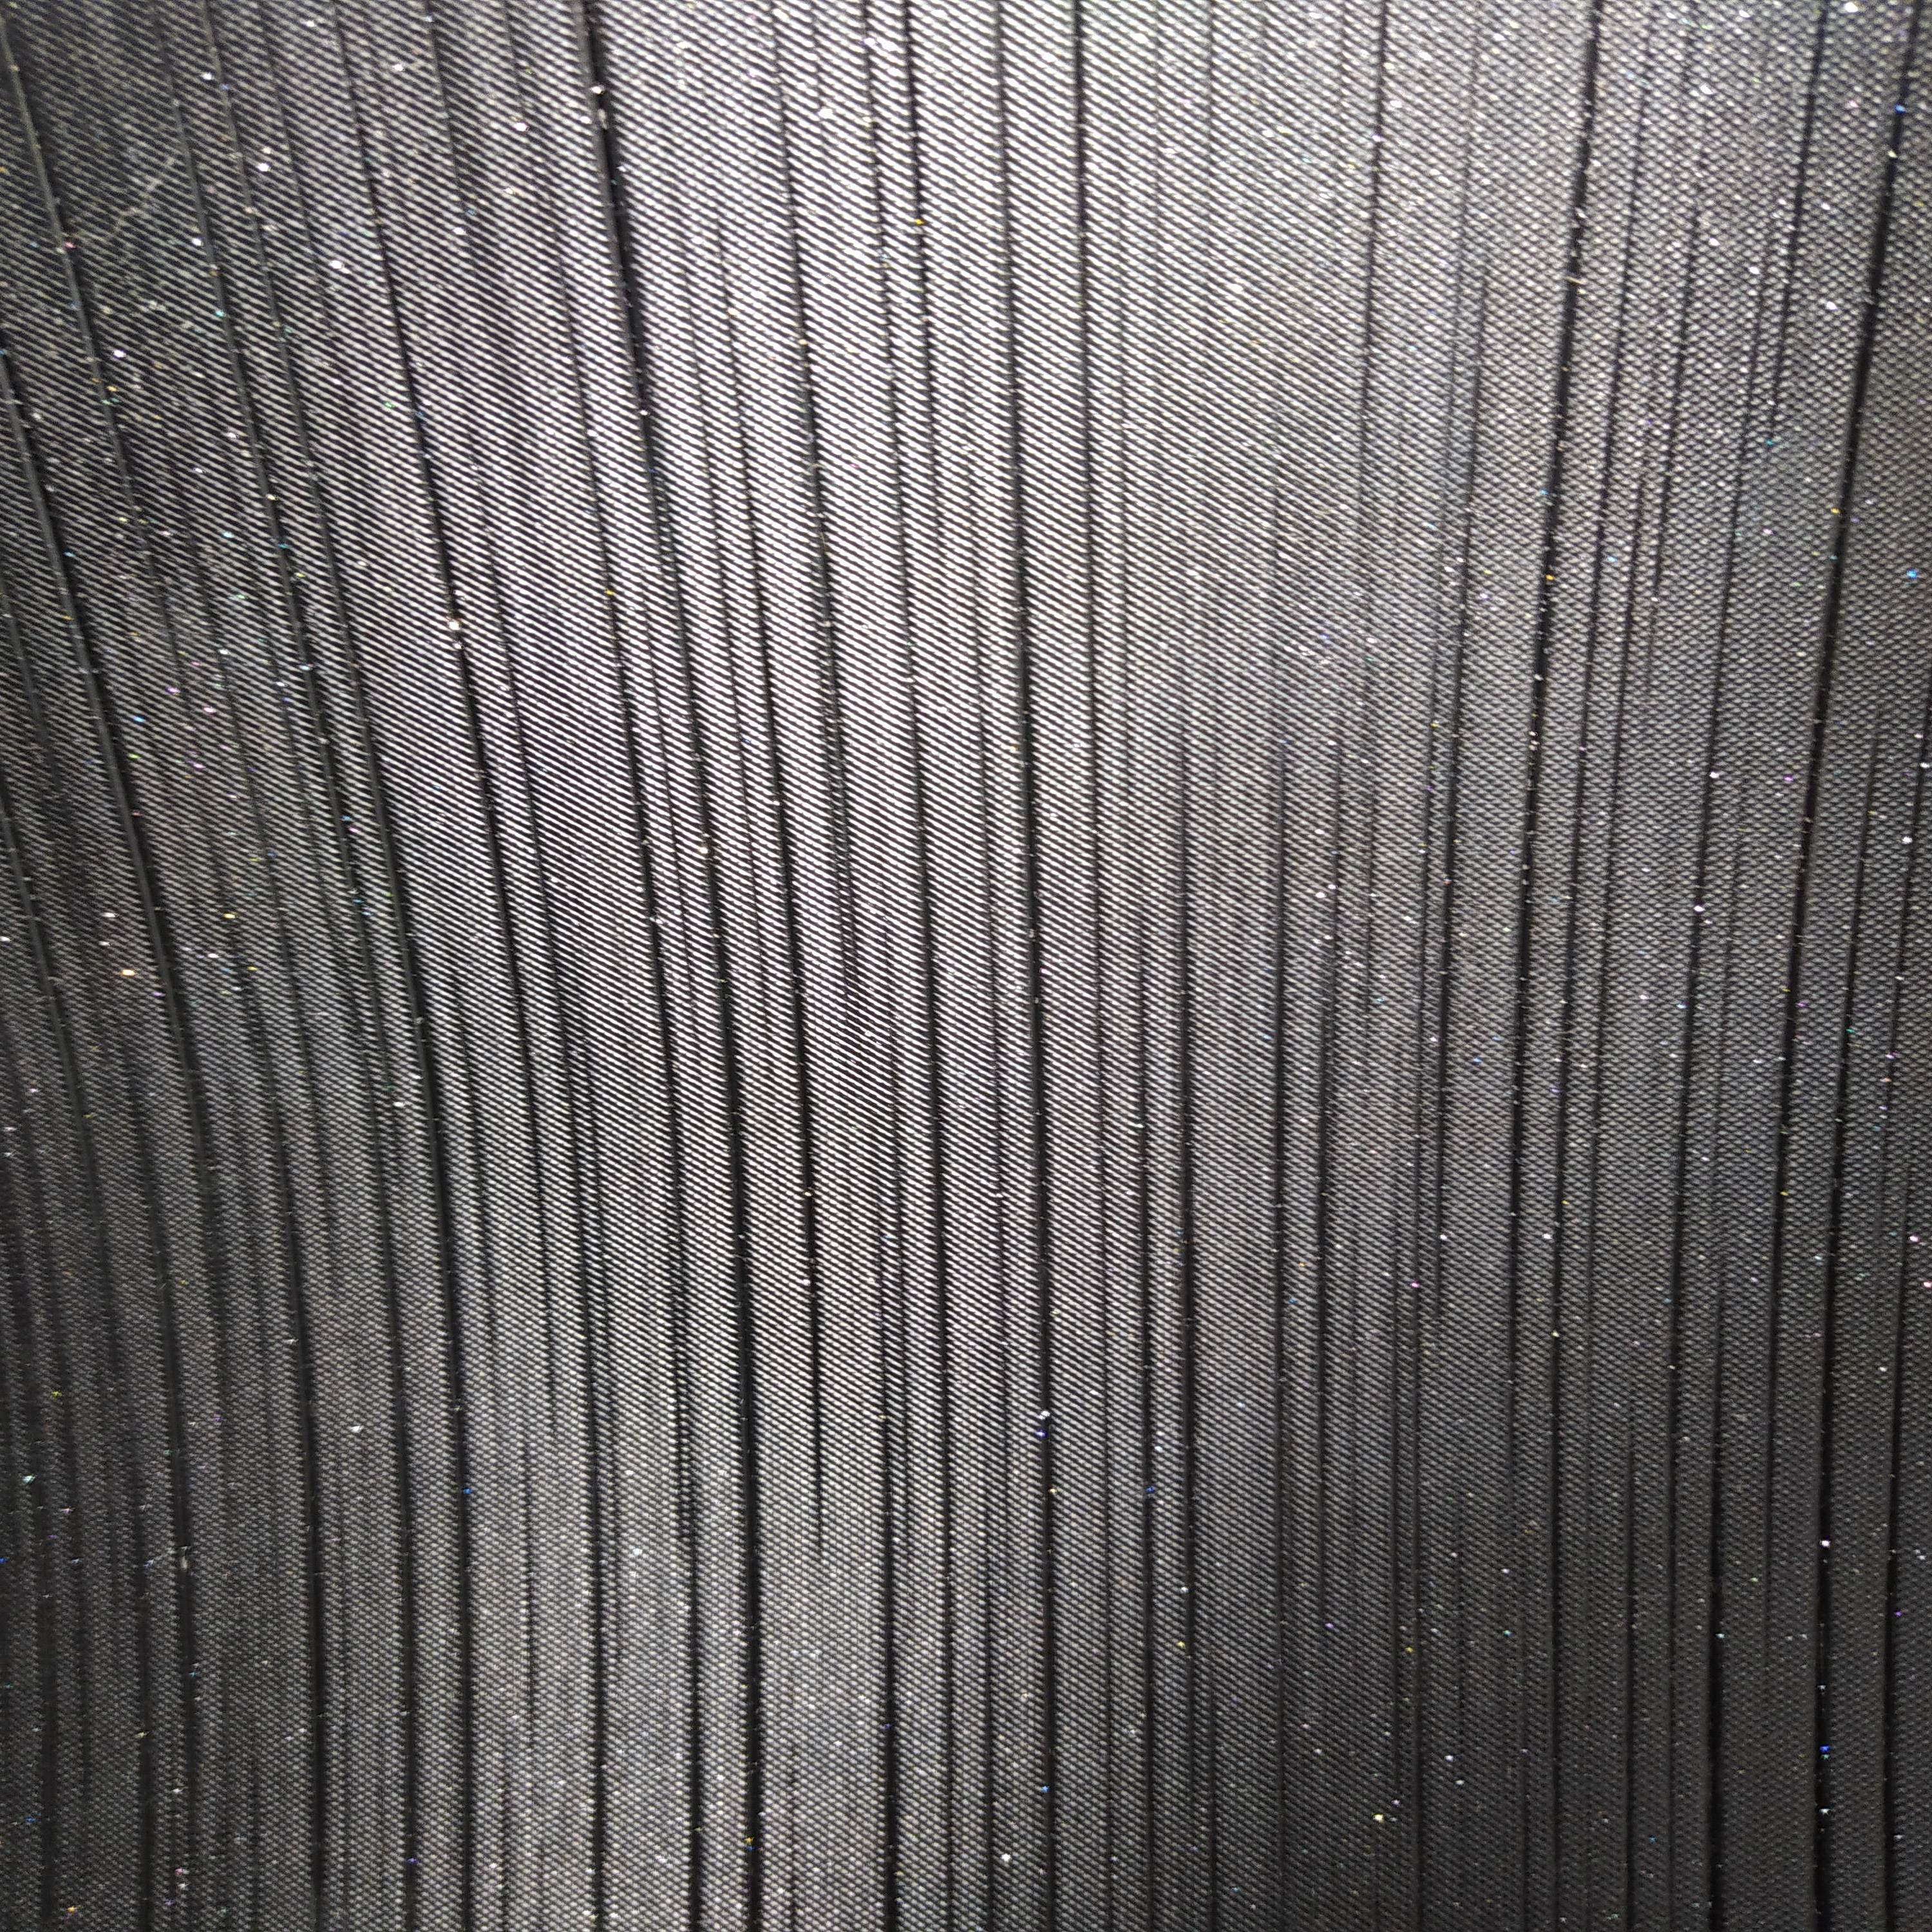friso grande: (1030, 1102, 1058, 1923), (1079, 812, 1120, 1376), (667, 1546, 713, 1928), (391, 1463, 428, 1925), (1801, 1486, 1840, 1927), (734, 1361, 763, 1928), (1343, 239, 1387, 593), (449, 1465, 483, 1930), (1829, 225, 1895, 453), (1097, 1368, 1123, 1930), (579, 1552, 617, 1928), (1882, 1430, 1911, 1921), (1265, 715, 1297, 1129), (299, 1493, 329, 1930), (1129, 1217, 1161, 1621), (1658, 1196, 1695, 1539), (1178, 1419, 1210, 1819), (1065, 65, 1099, 428), (874, 1550, 906, 1930), (1125, 915, 1164, 1221), (1168, 794, 1207, 1088), (1315, 1198, 1339, 1649), (1759, 1322, 1789, 1688), (1813, 1016, 1863, 1230), (1545, 203, 1589, 441), (885, 531, 927, 773), (1267, 1458, 1299, 1775), (1667, 957, 1707, 1200), (939, 1375, 957, 1928), (1024, 833, 1058, 1115), (1617, 1569, 1644, 1925), (1808, 1231, 1845, 1483), (1177, 1079, 1203, 1428), (764, 798, 814, 980), (1755, 278, 1803, 465), (1660, 196, 1698, 426), (789, 237, 828, 465), (1265, 1136, 1292, 1463), (801, 1141, 821, 1576), (1461, 235, 1499, 455), (1076, 568, 1109, 810), (1698, 609, 1744, 780), (616, 310, 674, 444), (1683, 777, 1725, 959), (994, 196, 1024, 453), (1560, 32, 1605, 203), (1500, 878, 1541, 1063), (1139, 1621, 1164, 1925), (713, 929, 747, 1152), (1005, 448, 1042, 649), (1594, 272, 1637, 446), (1513, 727, 1560, 879), (1759, 1115, 1794, 1320), (927, 1005, 947, 1375), (1265, 1766, 1309, 1927), (1787, 732, 1826, 915), (152, 1299, 196, 1454), (327, 559, 379, 690), (1778, 911, 1812, 1109), (380, 1292, 418, 1470), (81, 315, 136, 435), (281, 1184, 324, 1338), (1863, 90, 1909, 232), (1366, 11, 1394, 241), (754, 656, 798, 803), (391, 315, 437, 455), (126, 1743, 159, 1932), (1633, 533, 1667, 722), (30, 1729, 62, 1927), (1886, 1246, 1920, 1433), (982, 1571, 1000, 1925), (870, 1357, 902, 1552), (766, 69, 801, 244), (789, 968, 823, 1150), (832, 858, 874, 1001), (1541, 1557, 1571, 1759), (165, 1453, 205, 1599), (1504, 1274, 1529, 1509), (1700, 1720, 1729, 1925), (602, 198, 653, 311), (1010, 651, 1042, 833), (665, 1419, 706, 1560), (621, 833, 674, 941), (251, 251, 303, 363), (1576, 577, 1610, 747), (306, 451, 356, 566), (918, 763, 941, 1008), (731, 1154, 757, 1366), (593, 103, 646, 209), (1808, 577, 1844, 734), (531, 1217, 568, 1366), (1706, 1490, 1729, 1725), (571, 12, 630, 104), (53, 203, 103, 311), (1783, 138, 1821, 281), (173, 1592, 203, 1767), (131, 1571, 163, 1736), (292, 1332, 324, 1497), (499, 959, 547, 1069), (1822, 449, 1865, 571), (517, 1070, 552, 1215), (212, 50, 258, 161), (50, 1001, 94, 1116), (117, 1433, 152, 1576), (1318, 966, 1339, 1201), (570, 1299, 610, 1421), (1545, 1757, 1573, 1932), (1792, 30, 1835, 147), (366, 1157, 402, 1297), (1074, 426, 1109, 566), (21, 90, 64, 205), (895, 16, 931, 152), (642, 446, 685, 559), (1323, 763, 1346, 971), (699, 761, 727, 929), (30, 902, 73, 1014), (460, 432, 502, 543), (1507, 1060, 1529, 1281), (131, 1086, 170, 1207), (660, 1288, 697, 1414), (0, 345, 42, 455), (915, 251, 939, 439), (483, 862, 529, 962), (563, 304, 594, 449), (580, 446, 621, 557), (876, 426, 916, 538), (582, 1417, 614, 1559), (230, 324, 264, 456), (745, 525, 777, 665), (817, 757, 860, 862), (548, 952, 582, 1081), (1856, 692, 1897, 798), (395, 977, 441, 1070), (1621, 1387, 1644, 1573), (1456, 453, 1486, 594), (805, 554, 846, 658), (370, 203, 407, 317), (433, 1286, 474, 1389), (594, 563, 635, 665), (1739, 292, 1769, 430), (409, 446, 451, 543), (663, 554, 702, 660), (7, 453, 64, 525), (1568, 747, 1596, 892), (814, 649, 851, 757), (1651, 421, 1686, 534), (1617, 159, 1652, 272), (361, 683, 393, 809), (725, 324, 759, 442), (1711, 1265, 1729, 1490), (649, 936, 678, 1076), (455, 644, 492, 750), (430, 1177, 464, 1292), (1713, 495, 1746, 610), (497, 644, 533, 752), (1624, 41, 1654, 166), (379, 796, 416, 897), (660, 1189, 695, 1293), (515, 745, 548, 855), (483, 536, 517, 646), (1835, 902, 1868, 1012), (322, 885, 363, 975), (672, 646, 702, 768), (1449, 596, 1476, 734), (1520, 610, 1552, 725), (4, 801, 41, 899), (1529, 517, 1566, 614), (166, 34, 198, 147), (879, 297, 906, 432), (534, 847, 566, 959), (805, 458, 842, 554), (244, 453, 287, 536), (182, 1115, 226, 1194), (426, 1067, 456, 1184), (663, 1076, 694, 1192), (563, 1076, 596, 1180), (35, 1583, 58, 1734), (177, 1764, 198, 1927), (0, 1215, 35, 1313), (474, 755, 506, 863), (1555, 1016, 1582, 1145), (124, 860, 173, 929), (612, 759, 658, 833), (1594, 448, 1622, 568), (423, 12, 462, 99), (191, 1198, 235, 1274), (19, 1099, 50, 1210), (347, 90, 377, 202), (1433, 1154, 1453, 1325), (244, 541, 278, 640), (435, 548, 467, 653), (345, 886, 380, 980), (249, 968, 278, 1085), (90, 1185, 120, 1295), (869, 188, 899, 297), (364, 991, 402, 1079), (609, 667, 646, 755), (113, 996, 145, 1099), (156, 446, 202, 517), (1890, 0, 1925, 92), (327, 821, 370, 897), (106, 1288, 133, 1408), (1440, 879, 1461, 1030), (906, 150, 936, 255), (244, 152, 274, 257), (996, 60, 1019, 196), (1545, 1431, 1569, 1557), (30, 1449, 53, 1583), (1445, 732, 1467, 878), (1845, 796, 1874, 904), (377, 1072, 410, 1162), (863, 85, 893, 186), (283, 977, 320, 1058), (170, 1047, 216, 1113), (188, 143, 218, 242), (1534, 439, 1568, 527), (573, 1180, 596, 1309), (534, 1373, 571, 1453), (1435, 1023, 1458, 1150), (272, 1076, 297, 1192), (294, 1058, 333, 1132), (150, 1205, 180, 1300), (322, 1217, 352, 1313), (0, 1017, 34, 1102), (211, 1345, 239, 1445), (732, 439, 763, 533), (301, 672, 338, 747), (708, 212, 732, 324), (80, 1100, 108, 1198), (361, 1065, 389, 1162), (223, 448, 251, 545), (103, 720, 138, 796), (265, 890, 299, 970), (16, 1315, 35, 1449), (1058, 0, 1097, 67), (264, 639, 292, 731), (1548, 1265, 1564, 1428), (119, 789, 154, 862), (202, 1270, 235, 1346), (350, 978, 379, 1069), (212, 649, 244, 729), (288, 352, 315, 448), (1720, 428, 1757, 495), (248, 805, 278, 886), (230, 732, 264, 805), (318, 748, 352, 819), (145, 936, 191, 987), (398, 893, 426, 977), (329, 7, 356, 90), (1552, 1146, 1571, 1260), (317, 1134, 343, 1215), (1562, 893, 1580, 1016), (81, 651, 113, 718), (759, 7, 789, 78), (212, 239, 237, 322), (64, 580, 97, 640), (288, 732, 315, 809), (855, 14, 881, 90), (166, 987, 198, 1049), (195, 580, 226, 639), (287, 610, 315, 676), (35, 534, 73, 582), (179, 529, 211, 580), (308, 809, 327, 890), (278, 534, 299, 609), (455, 1387, 471, 1470), (993, 14, 1017, 65), (205, 0, 226, 57), (1585, 5, 1612, 41)
friso pequeno: (1143, 0, 1175, 412), (1658, 1536, 1686, 1909), (511, 1453, 547, 1744), (1192, 0, 1221, 354), (1867, 973, 1905, 1217), (1111, 444, 1139, 778), (1407, 1647, 1438, 1932), (92, 1414, 131, 1640), (448, 101, 497, 271), (338, 1541, 359, 1925), (878, 925, 906, 1169), (1111, 119, 1132, 435), (1359, 830, 1382, 1120), (538, 134, 575, 311), (1438, 244, 1472, 439), (1888, 793, 1923, 977), (499, 16, 548, 142), (490, 1753, 524, 1932), (973, 856, 1014, 1000), (897, 1329, 918, 1598), (1431, 446, 1458, 660), (1449, 88, 1486, 241), (975, 1001, 1010, 1161), (782, 1734, 810, 1932), (244, 1704, 269, 1928), (968, 709, 1005, 853), (748, 957, 786, 1093), (2, 594, 50, 699), (78, 870, 120, 985), (959, 573, 996, 704), (1385, 1622, 1412, 1803), (686, 283, 717, 441), (916, 448, 955, 568), (299, 182, 336, 306), (987, 1415, 1016, 1575), (987, 1299, 1024, 1412), (1169, 681, 1205, 800), (1410, 1435, 1430, 1647), (48, 777, 90, 870), (740, 844, 773, 961), (119, 441, 156, 543), (1414, 819, 1444, 945), (732, 734, 766, 846), (1522, 1661, 1536, 1925), (51, 28, 88, 127), (25, 697, 71, 777), (888, 1169, 911, 1329), (120, 209, 154, 317), (97, 119, 136, 211), (1387, 1177, 1412, 1320), (274, 58, 303, 182), (1389, 1318, 1412, 1470), (672, 189, 706, 290), (1364, 711, 1391, 837), (694, 442, 727, 541), (1410, 1246, 1428, 1433), (1389, 1463, 1408, 1631), (708, 529, 738, 637), (985, 1157, 1008, 1297), (1422, 651, 1440, 828), (959, 455, 985, 571), (1407, 1108, 1428, 1247), (722, 628, 750, 731), (156, 540, 180, 656), (1415, 945, 1433, 1104), (175, 648, 203, 729), (1467, 4, 1491, 96), (225, 890, 251, 968), (184, 766, 212, 832), (1913, 706, 1932, 798), (260, 4, 285, 65), (209, 835, 230, 899)
